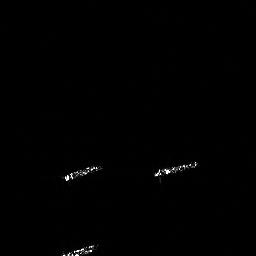ship: (153, 159, 200, 182), (62, 165, 104, 182), (59, 241, 97, 256)
